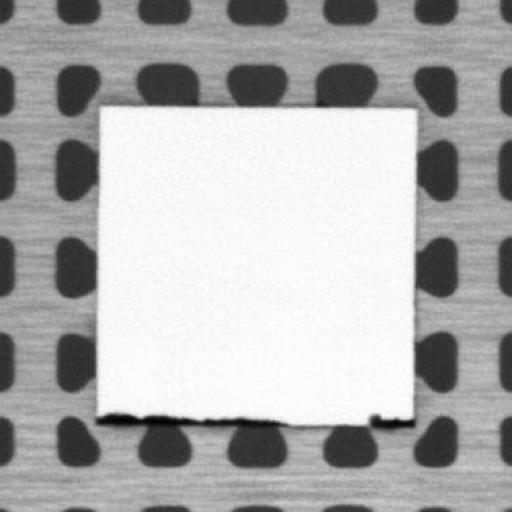DIE_BROKEN: (91, 409, 284, 427), (363, 411, 416, 428)
